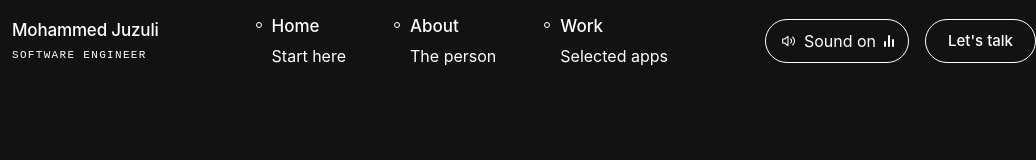
Scenario: sound toggle › is on by default, in the header on every page, and toggles aria-pressed and its label
Expected: the header named "Sound on" is shown, top-left (12, 16), bottom-right (1035, 66)
Click the button "Sound on" at (837, 41), box top-left (765, 19), bottom-right (909, 63)
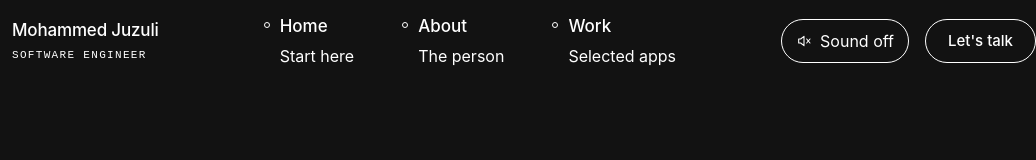
Expected: the button "Sound off" is not pressed
Click the button "Sound off" at (845, 41), box top-left (781, 19), bottom-right (909, 63)
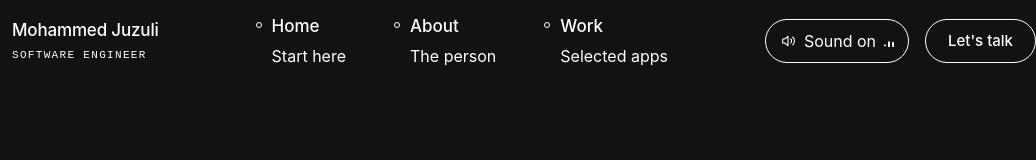
Expected: the button "Sound on" is pressed, top-left (765, 19), bottom-right (909, 63)
